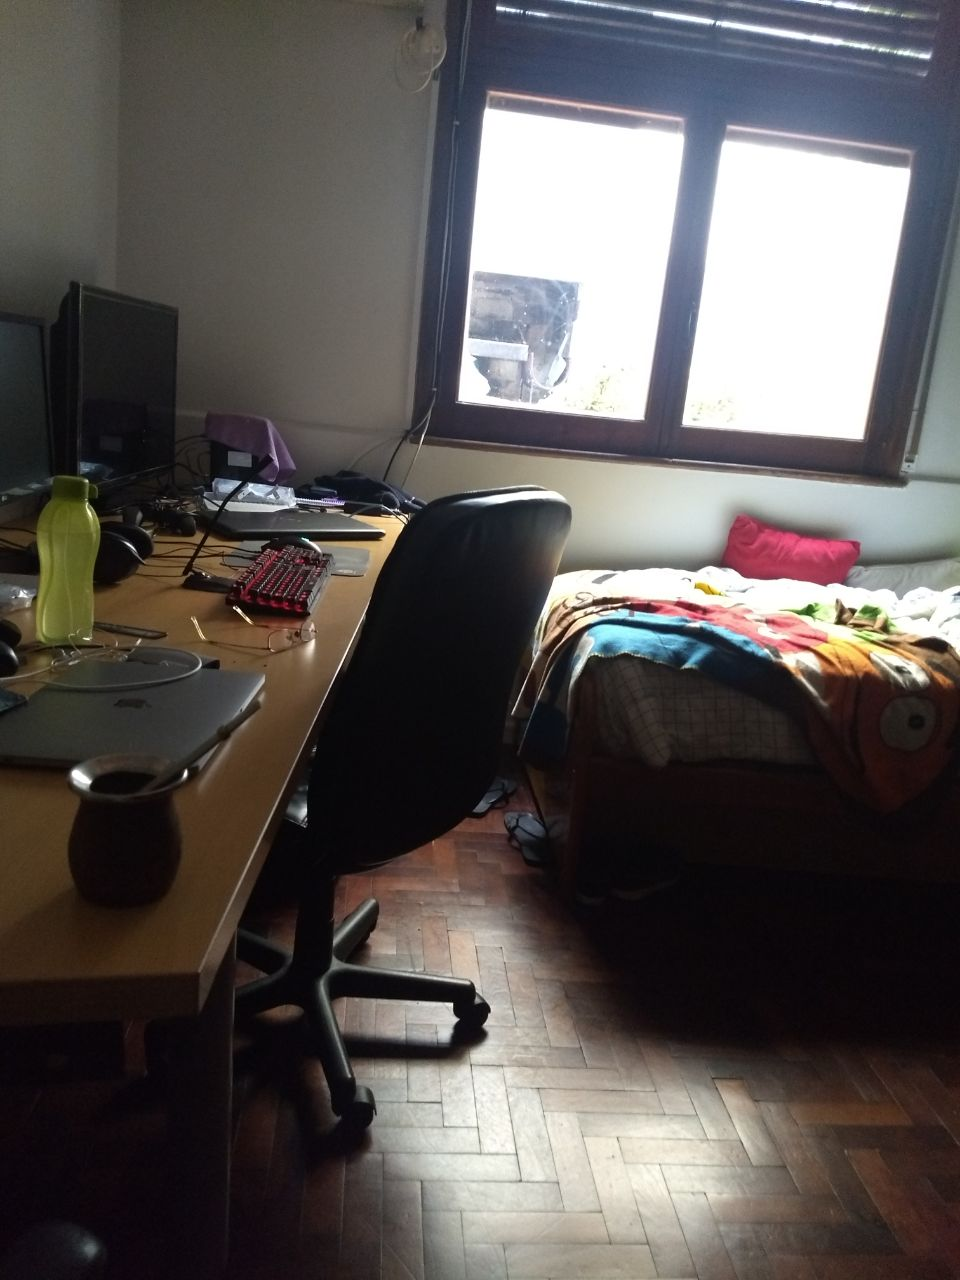madera: (63, 701, 261, 898)
mate: (65, 703, 263, 900)
